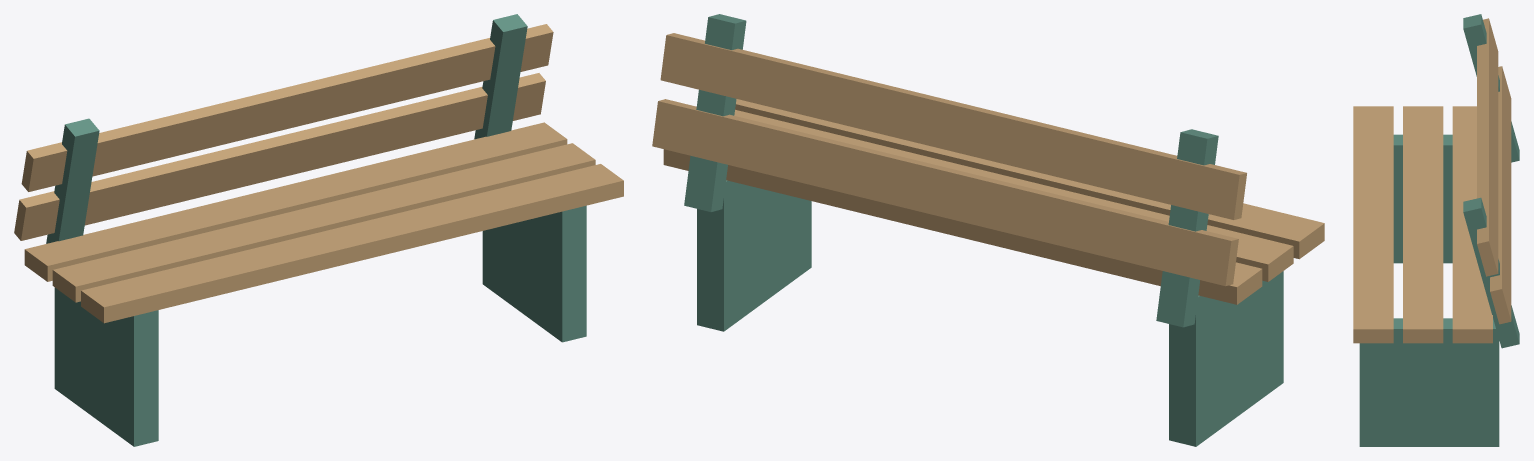
Rendered from slopebench.glb.
3 views of the same model, side by side, from view 1: azimuth 30°, elevation 25°; view 2: azimuth 150°, elevation 25°; view 3: azimuth 270°, elevation 25° (orthographic). The views are drawn at different scales.
Visible parts, largest first — view 1: slope-bench; view 2: slope-bench; view 3: slope-bench.
Part boxes in pixels (x1=…): slope-bench: x1=14, y1=14, x2=623, y2=446; slope-bench: x1=652, y1=14, x2=1324, y2=446; slope-bench: x1=1353, y1=14, x2=1519, y2=446.
Size of the model in its own units: 1.7 by 0.8496 by 0.5359.
